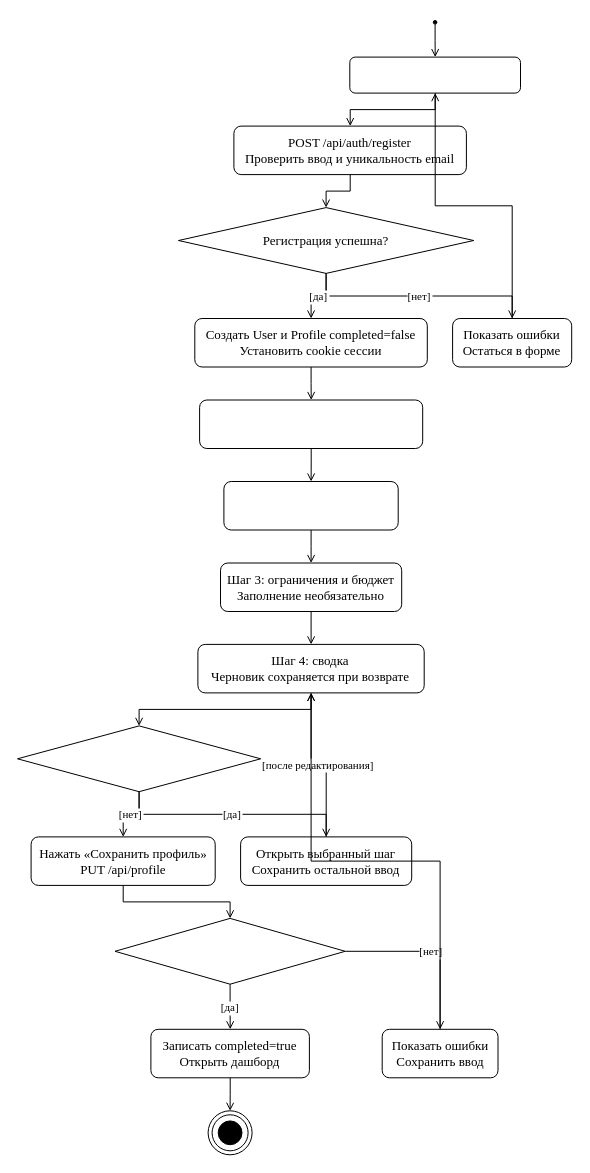
This 590x1173 diagram has some shape labels left out. The box of each missing label's shape, as (x1, y1, x2, y2) in pixels:
Ввести имя, email и пароль: (349, 56, 520, 93)
Нужно исправить?: (16, 725, 261, 792)
Профиль принят?: (114, 917, 345, 984)
Шаг 1: пол, возраст, вес, рост Далее только при корректном вводе: (199, 399, 423, 448)
Шаг 2: активность и цель Далее только после выбора: (223, 480, 398, 530)
